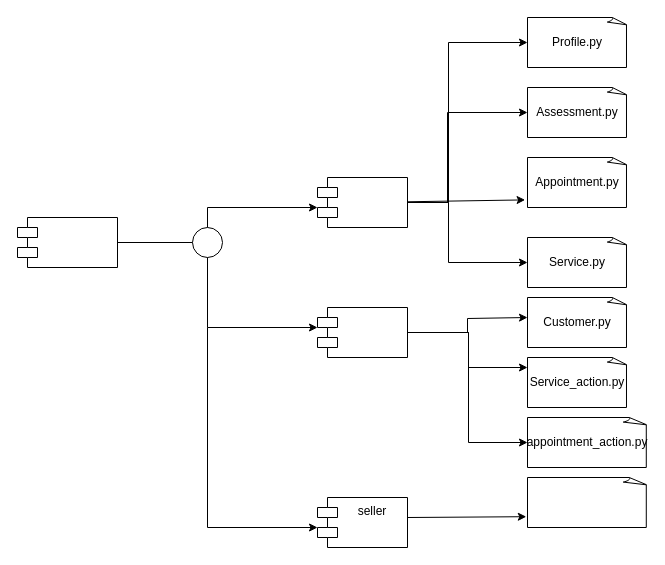
The diagram is 665 pixels wide and 565 high, and some of its shapes have lost their labels. The box of each missing label's shape, as (x1, y1, x2, y2) in pixels:
Admin: (316, 306, 408, 358)
AQUEON: (16, 216, 118, 268)
Customer: (316, 176, 408, 228)
Employee_profile.py: (526, 476, 648, 528)
